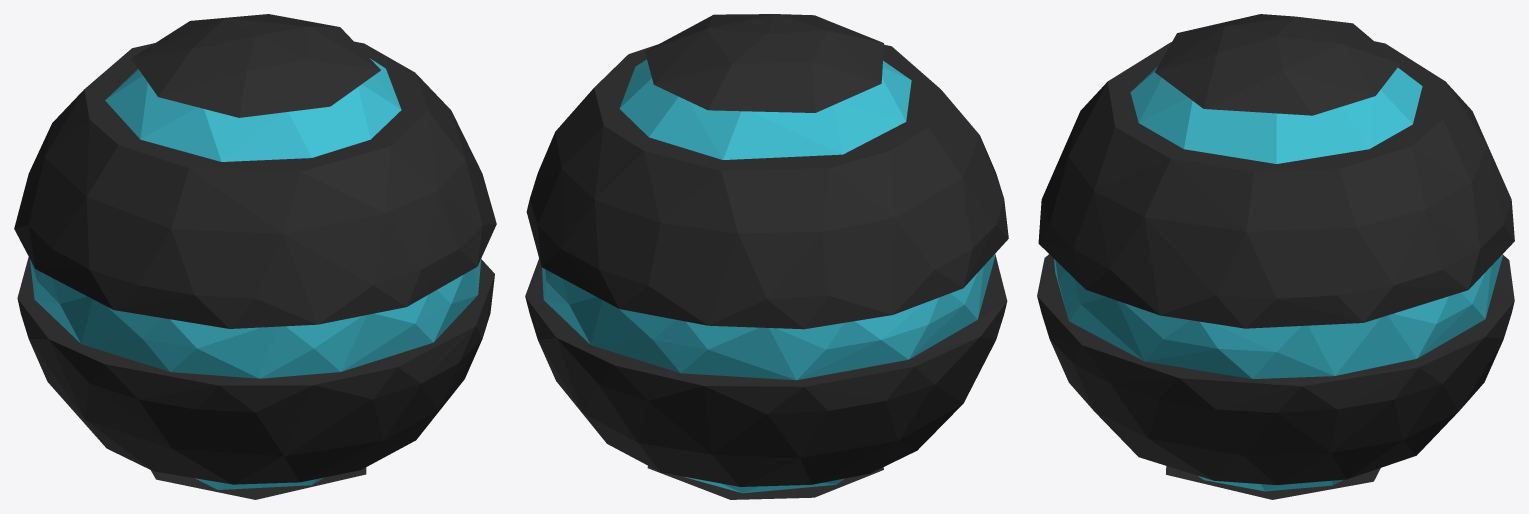
Rendered from batteryBall.dae.
The picture shows the model from 3 angles, left to right: view 1: azimuth 30°, elevation 25°; view 2: azimuth 150°, elevation 25°; view 3: azimuth 270°, elevation 25°; orthographic projection.
Parts seen in each view (by area): view 1: BatteryBall; view 2: BatteryBall; view 3: BatteryBall.
Boxes of the visible parts, <box> form: BatteryBall: <box>14,14,496,499</box>; BatteryBall: <box>525,14,1008,499</box>; BatteryBall: <box>1037,14,1514,499</box>.
Bounding box in the file's own units: 0.4184 × 0.4157 × 0.4234.
